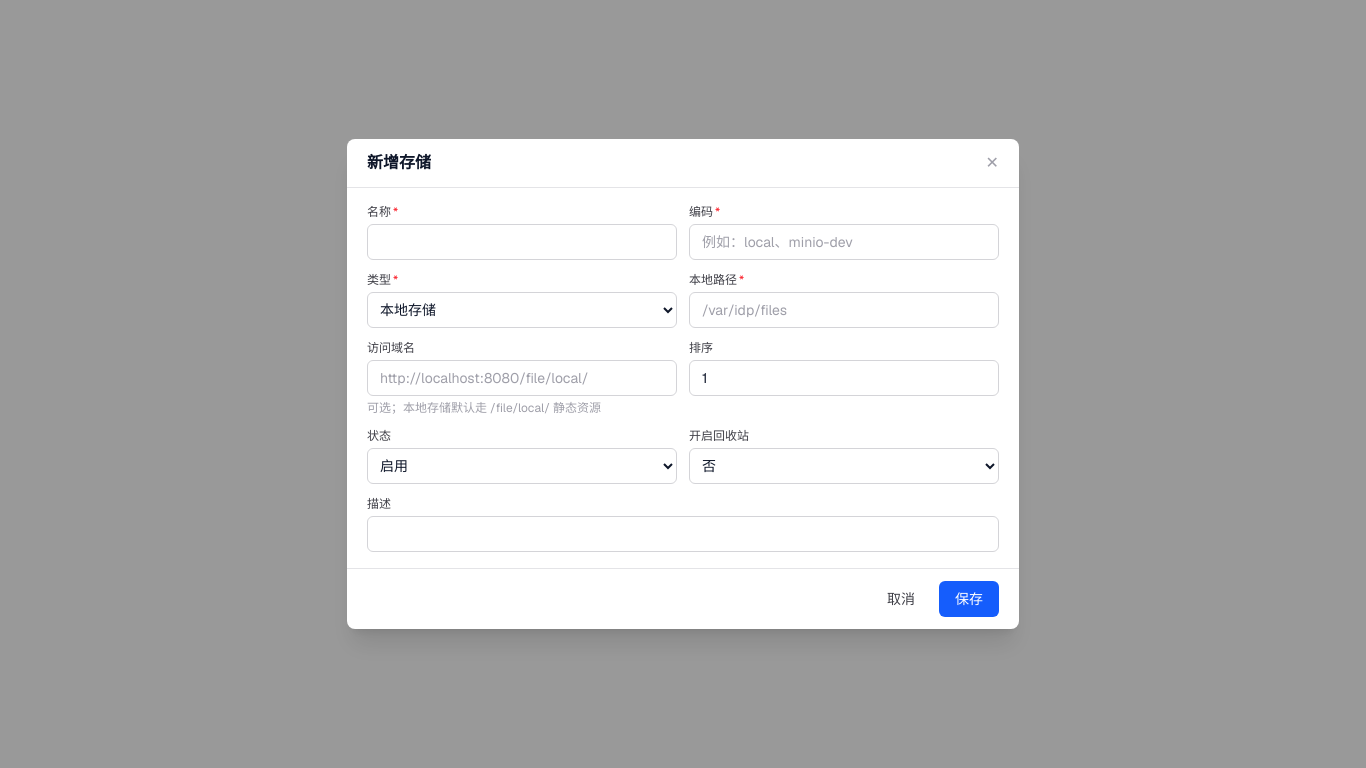
Test: StorageFormModal 字段联动 › 切换到 S3 类型后，新增 endpoint / accessKey / secretKey 字段
Select "S3 对象存储" in the dropdown showing "本地存储" below "类型" at (522, 310), box [367,292,677,328]
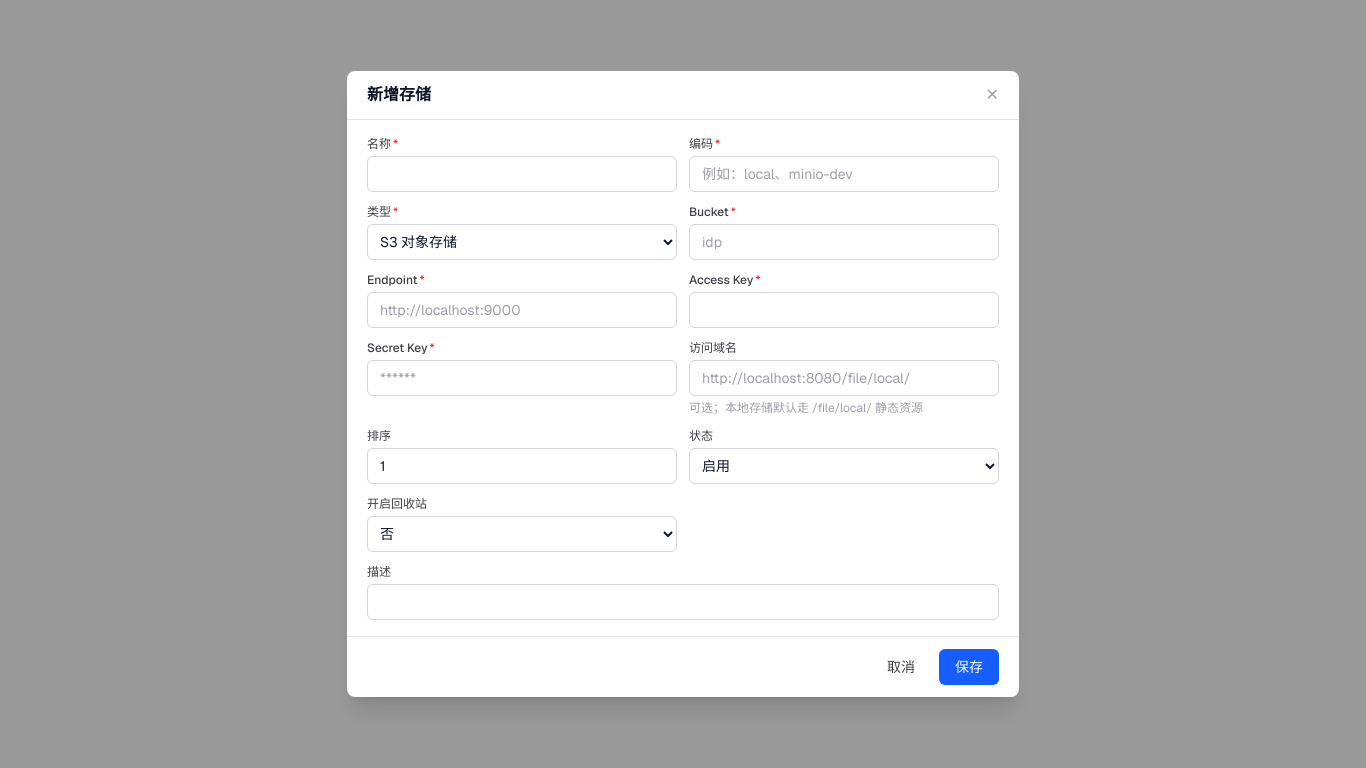
Check: the text "Endpoint" is shown, box [367,272,417,288]
Check: the text "Access Key" is shown, box [689,272,753,288]
Check: the text "Secret Key" is shown, box [367,340,428,356]
